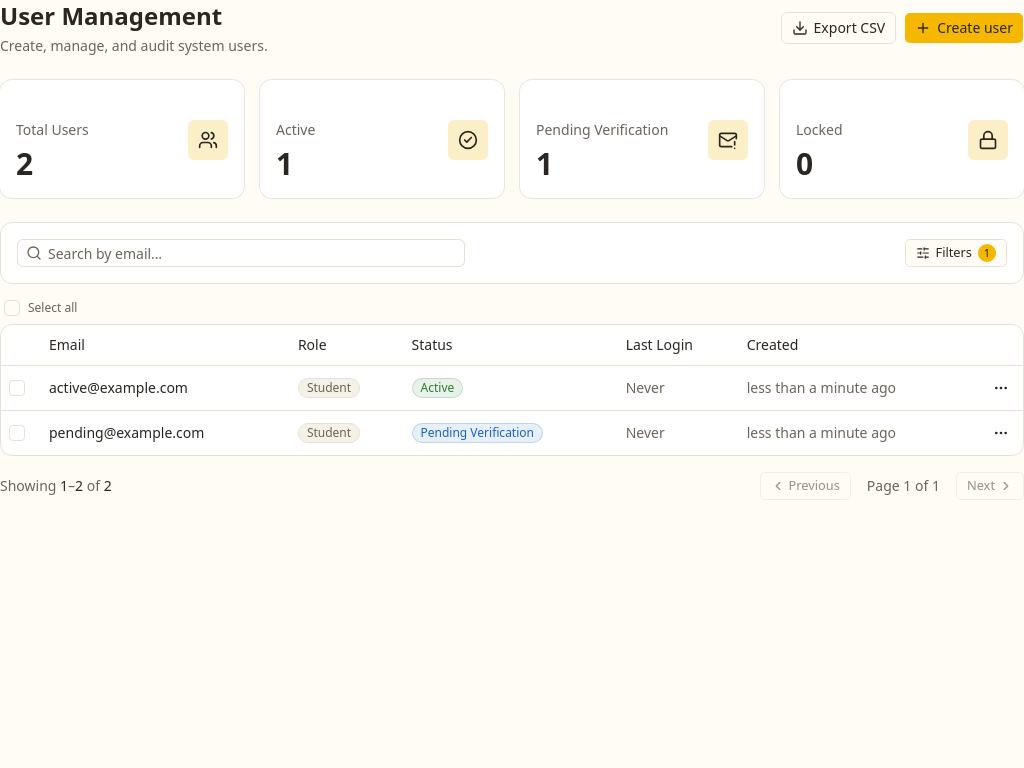
UsersPage › deactivates a user via the row action menu after confirmation
The width and height of the screenshot is (1024, 768).
Check: the button "active@example.com" is shown, box [49, 378, 188, 398]
Click the button named "actions for active@example.com" at (1001,388), box [987, 374, 1015, 402]
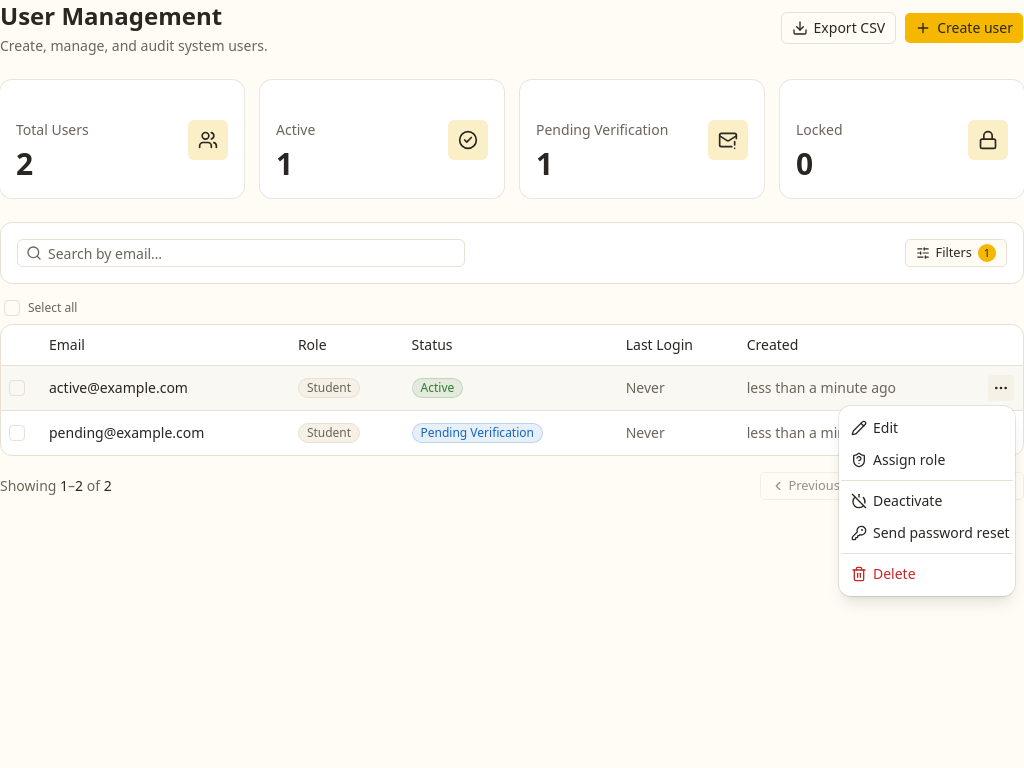
Click the menu item "Deactivate" at (897,500), box [851, 491, 942, 510]
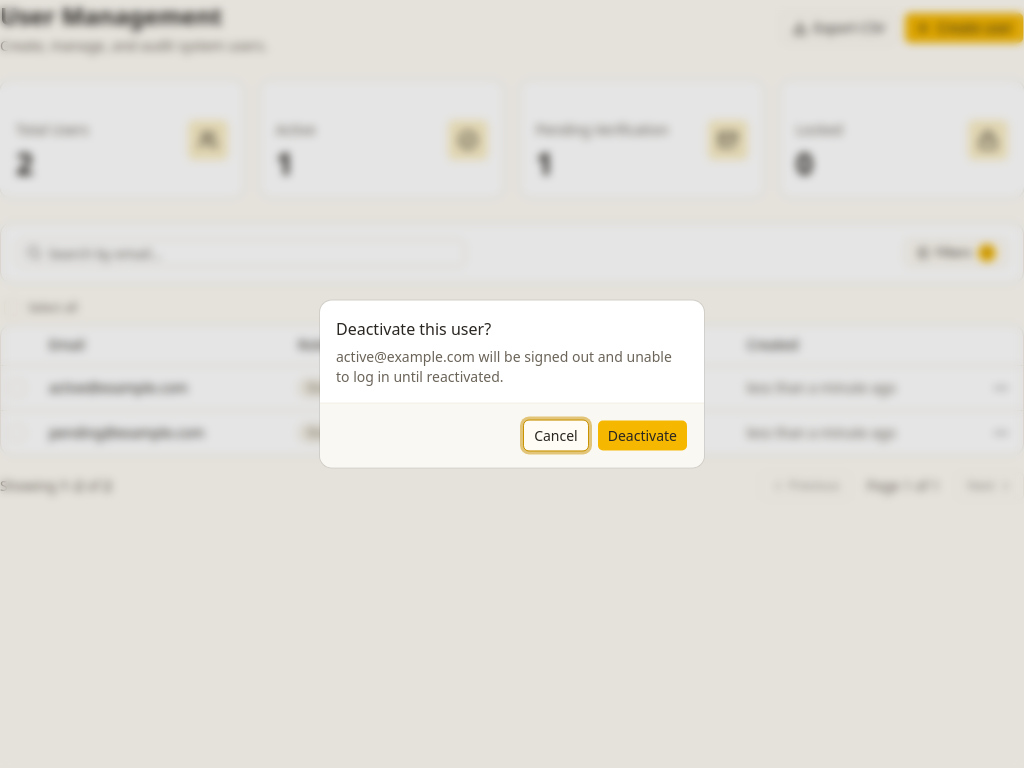
Click the button "Deactivate" at (642,436), box [597, 420, 688, 452]
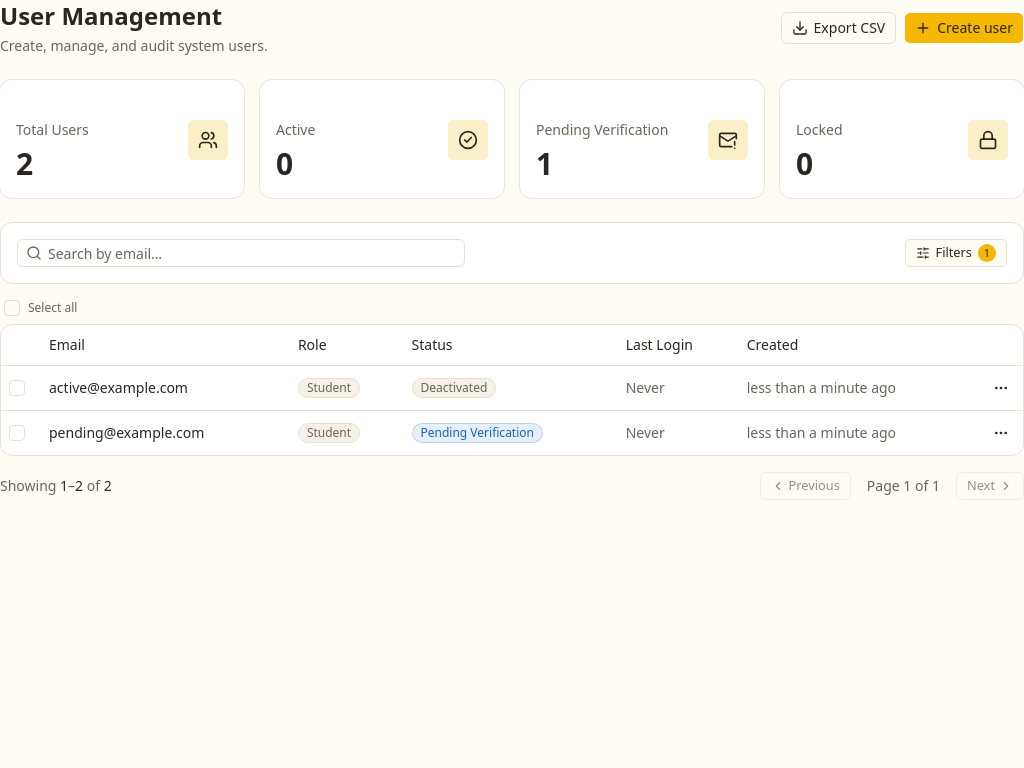
Check: the text "Deactivated" is shown, box [412, 378, 496, 398]
